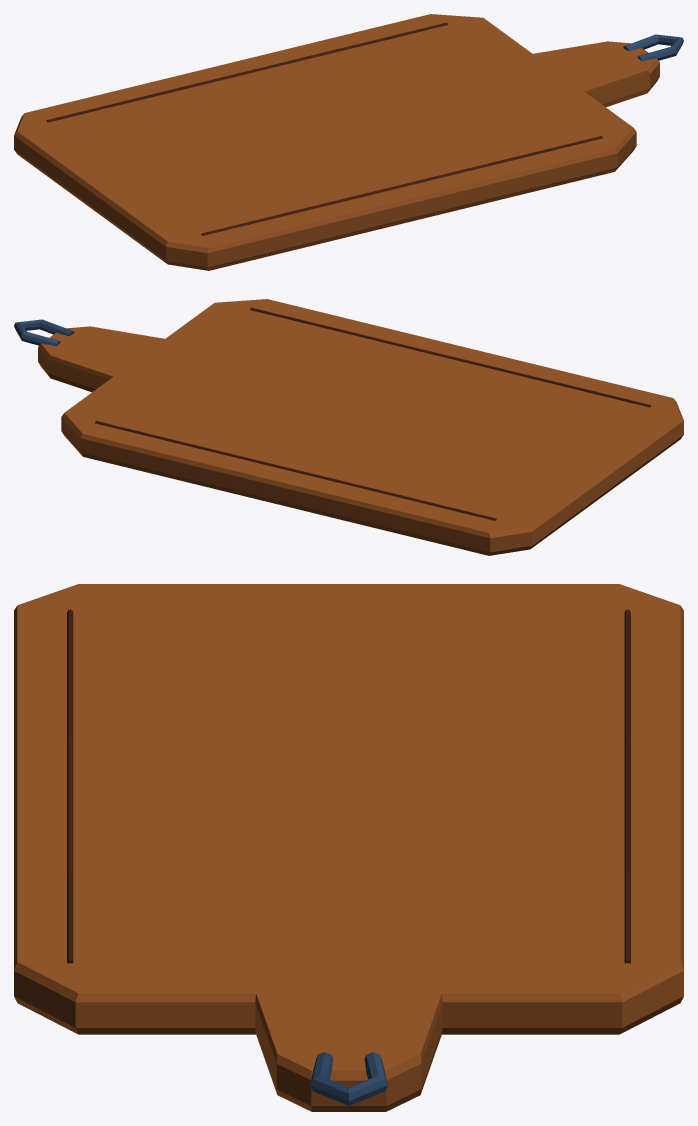
Rendered from ED_16_Handled_Serving_Board.fbx.
The picture shows the model from 3 angles, top to bottom: view 1: azimuth 30°, elevation 25°; view 2: azimuth 150°, elevation 25°; view 3: azimuth 270°, elevation 25°; orthographic projection. The views are drawn at different scales.
Parts seen in each view (by area): view 1: ED_16_Handled_Serving_Board; view 2: ED_16_Handled_Serving_Board; view 3: ED_16_Handled_Serving_Board.
Boxes of the visible parts, bbox=[...] form: ED_16_Handled_Serving_Board: bbox=[14, 14, 683, 270]; ED_16_Handled_Serving_Board: bbox=[14, 299, 683, 555]; ED_16_Handled_Serving_Board: bbox=[14, 584, 683, 1111].
Size of the model in its own units: 4.61 by 0.216 by 2.5.
